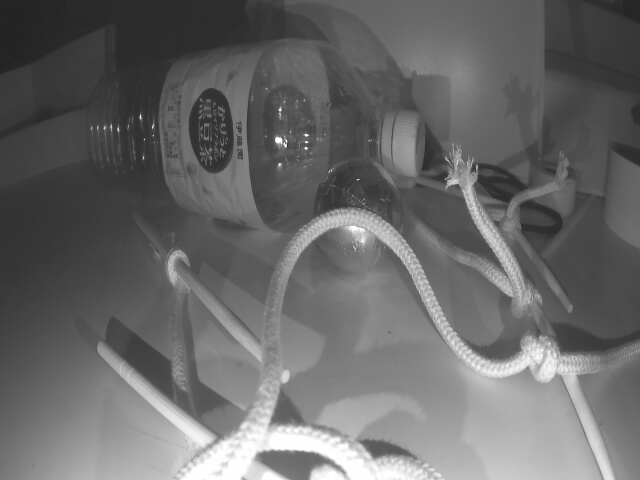Live: (313, 158, 403, 273)
Point: (0, 103, 95, 189)
